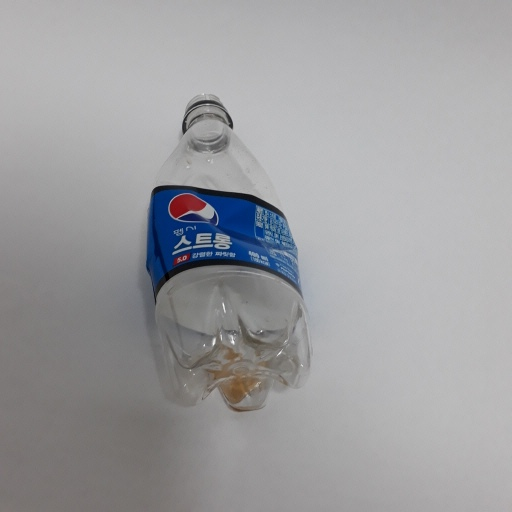Plastic_0: (139, 89, 318, 414)
